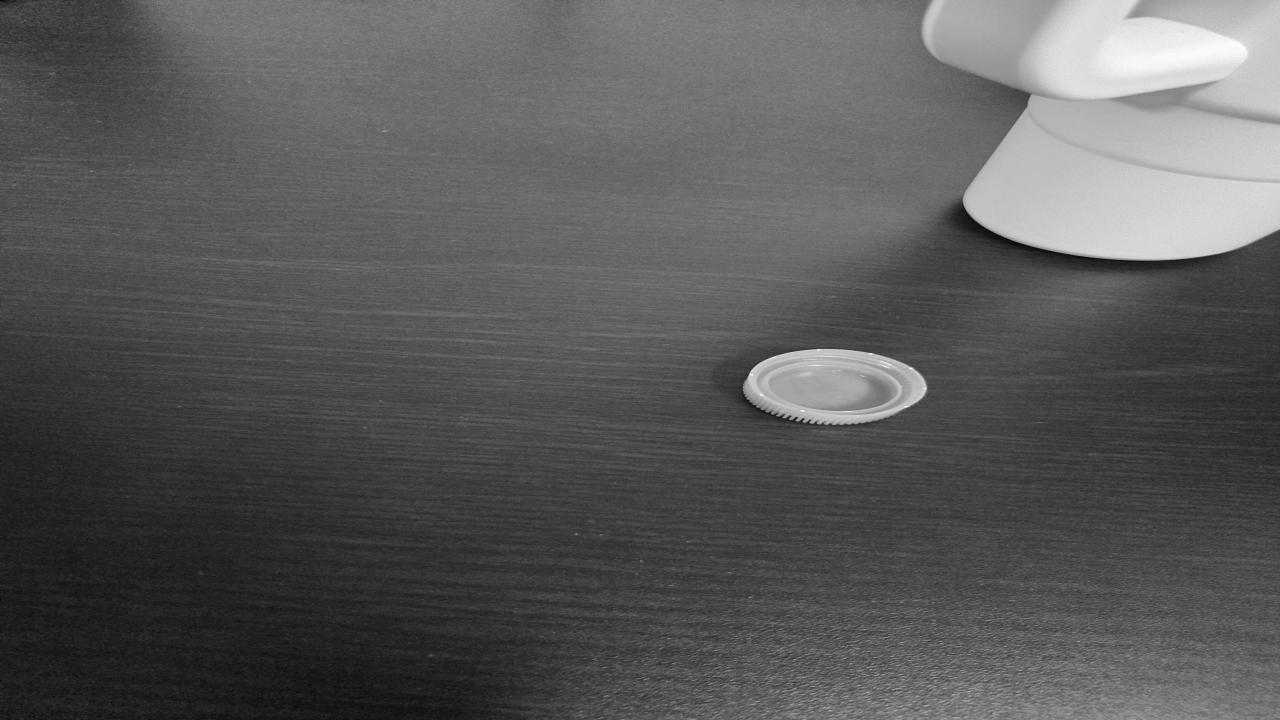bottle_cap: (749, 350, 928, 424)
